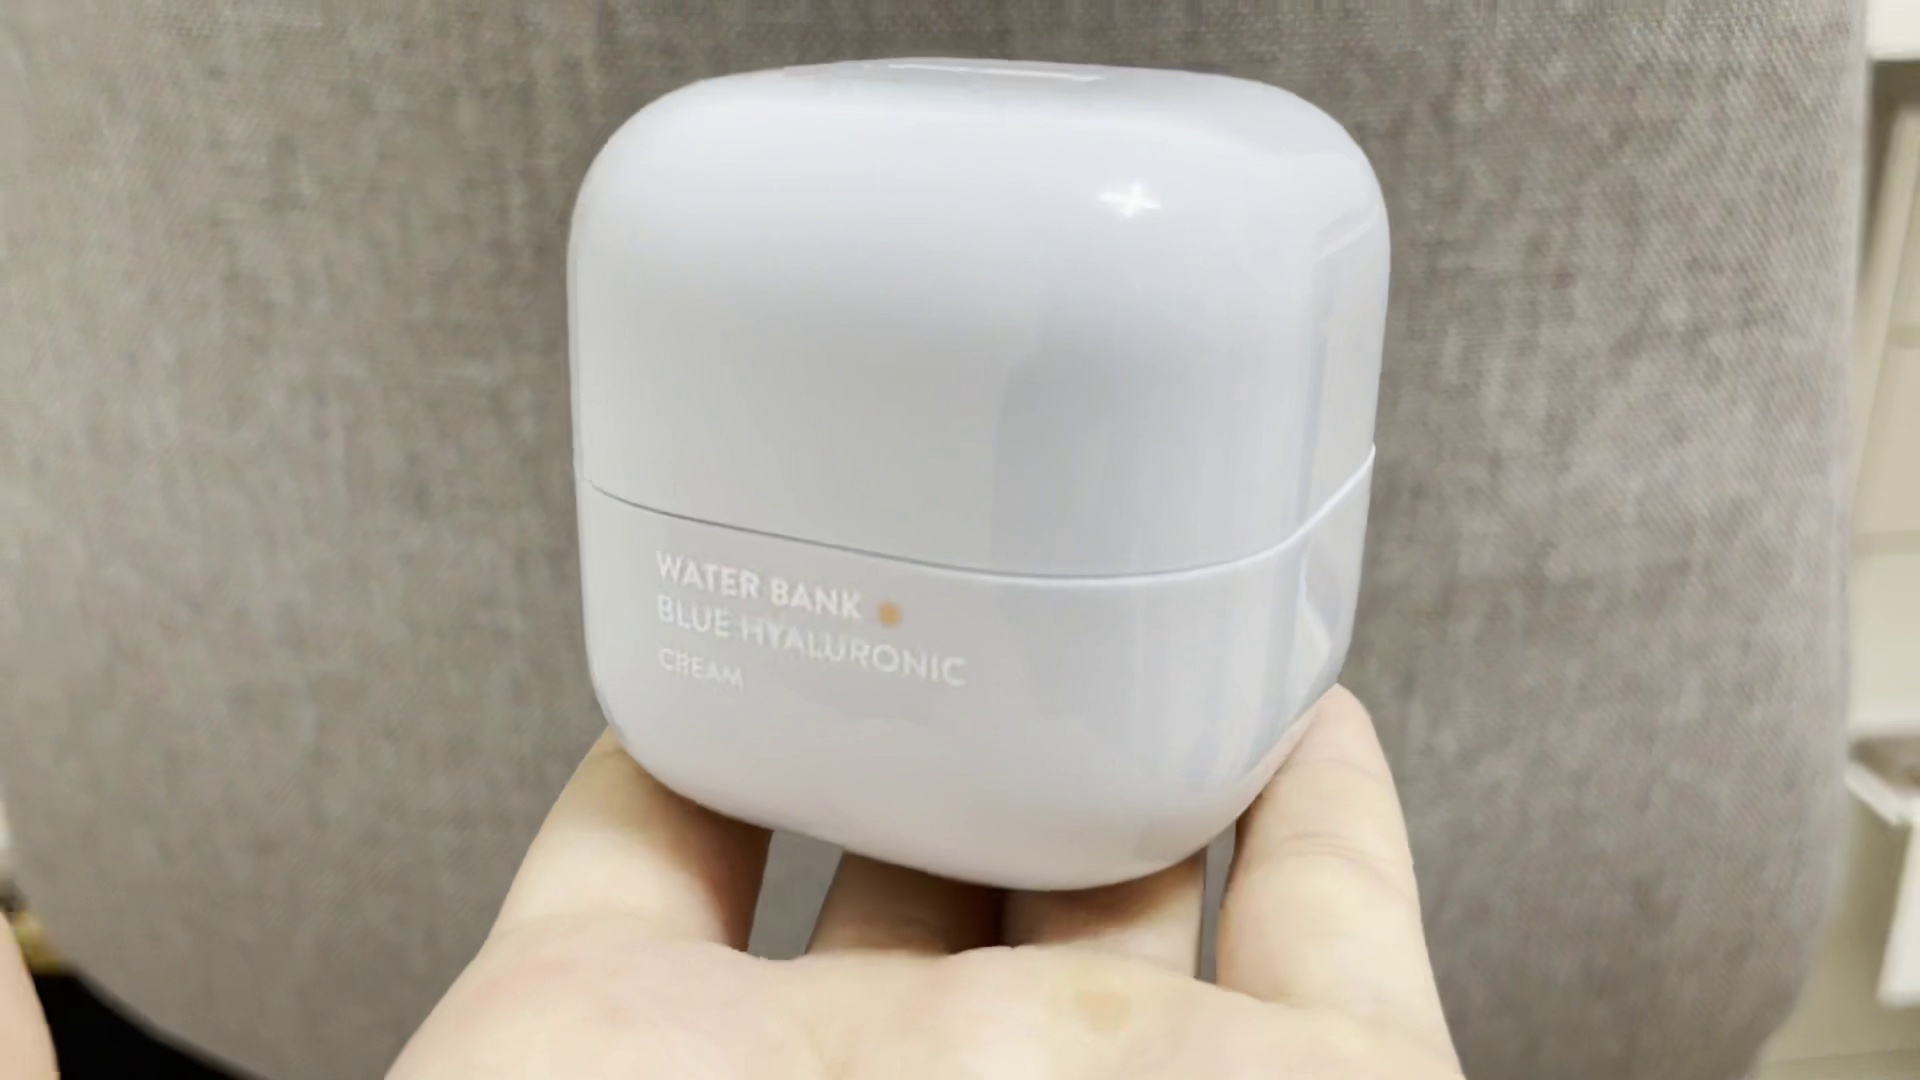cream: (570, 61, 1389, 886)
